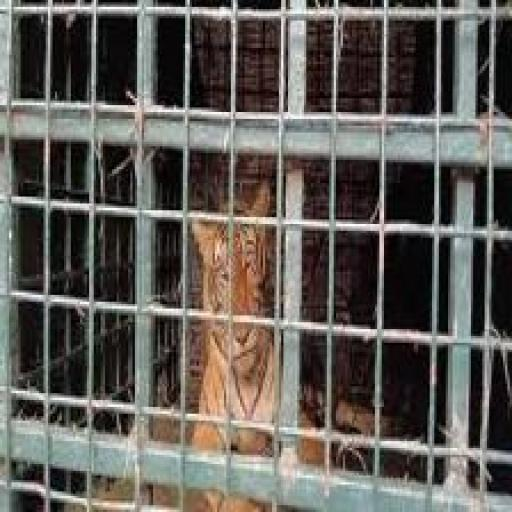Tiger: (174, 171, 388, 512)
